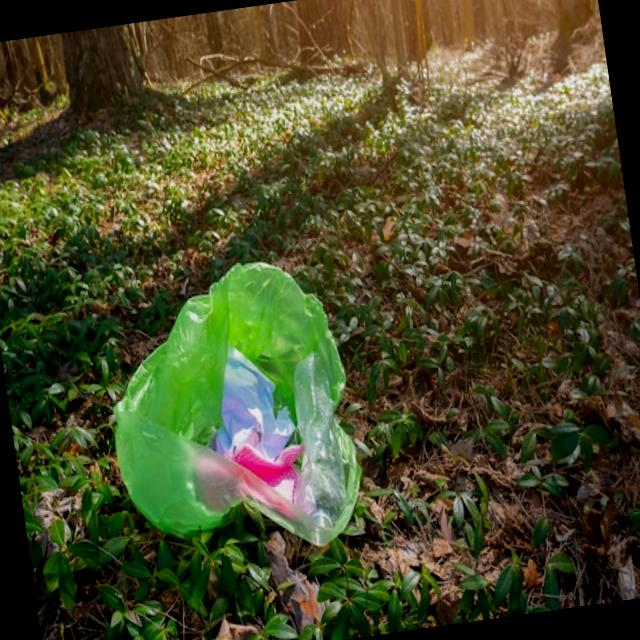garbage: (85, 246, 382, 574)
